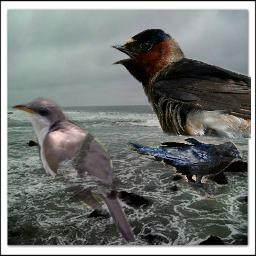Crow: (126, 137, 243, 200)
Cuckoo: (9, 95, 136, 247)
Swallow: (109, 28, 251, 140)
